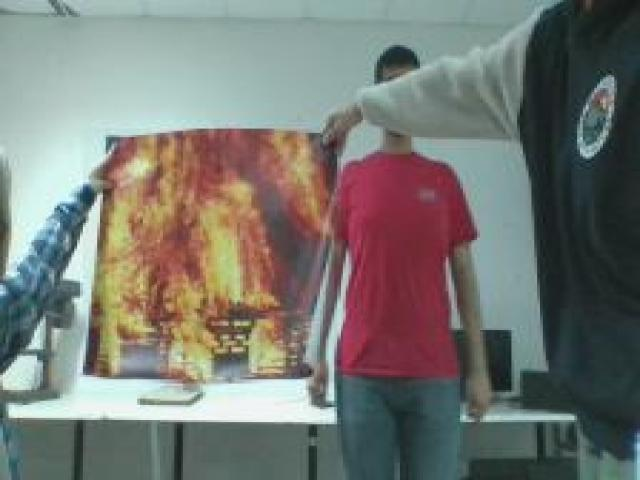fire-poster: (83, 126, 346, 386)
